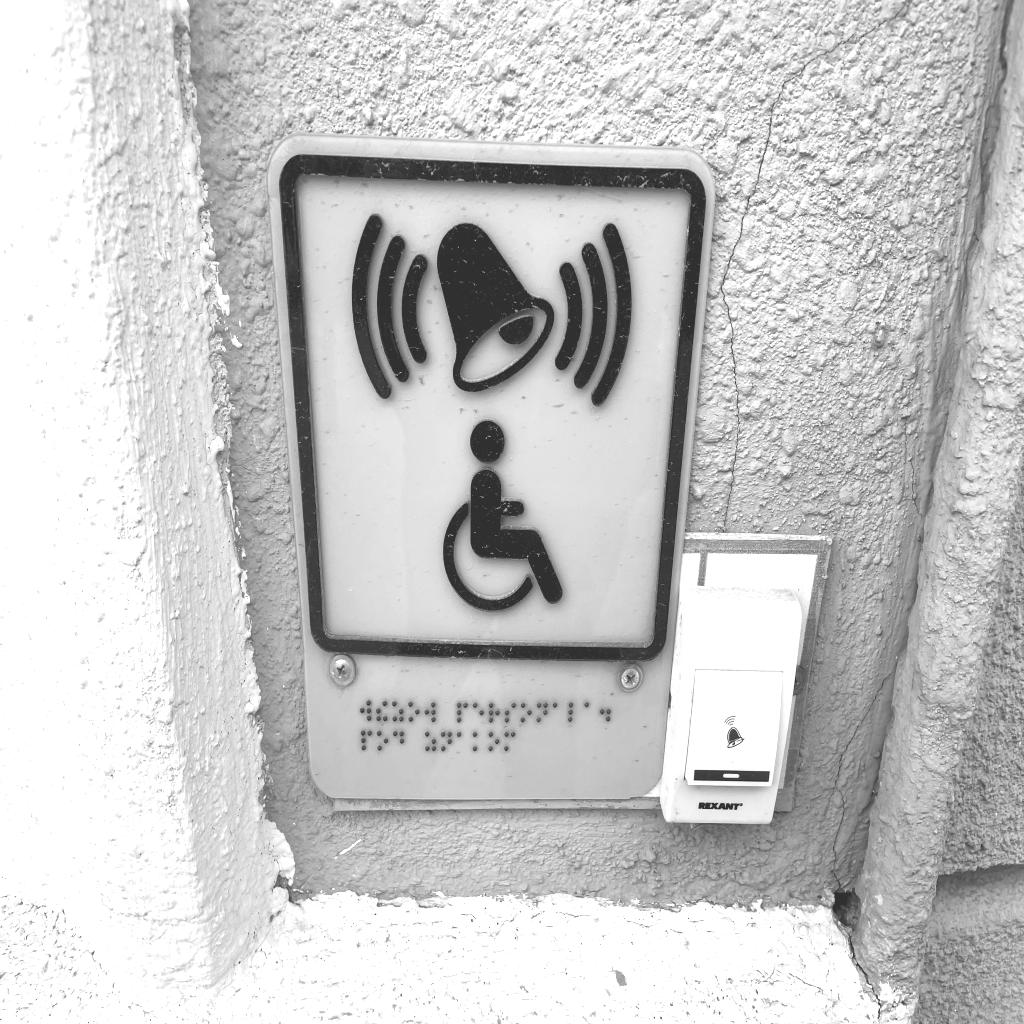_n: (440, 730, 452, 752), (536, 702, 548, 723)
a: (552, 701, 564, 724), (456, 731, 468, 752), (584, 701, 594, 723)
d: (393, 730, 405, 753)
e: (472, 702, 484, 724)
ii: (376, 700, 388, 722)
k: (472, 731, 484, 753)
l: (567, 701, 580, 723)
m: (503, 731, 516, 753)
o: (407, 701, 420, 723), (520, 702, 532, 724), (377, 730, 389, 752), (488, 731, 500, 753)
p: (456, 702, 468, 724), (361, 730, 373, 752)
r: (488, 702, 500, 723)
s: (505, 702, 517, 723)
tochka: (599, 700, 611, 723)
v: (424, 702, 436, 723), (360, 700, 371, 721)
z: (392, 701, 404, 724), (425, 730, 437, 752)
